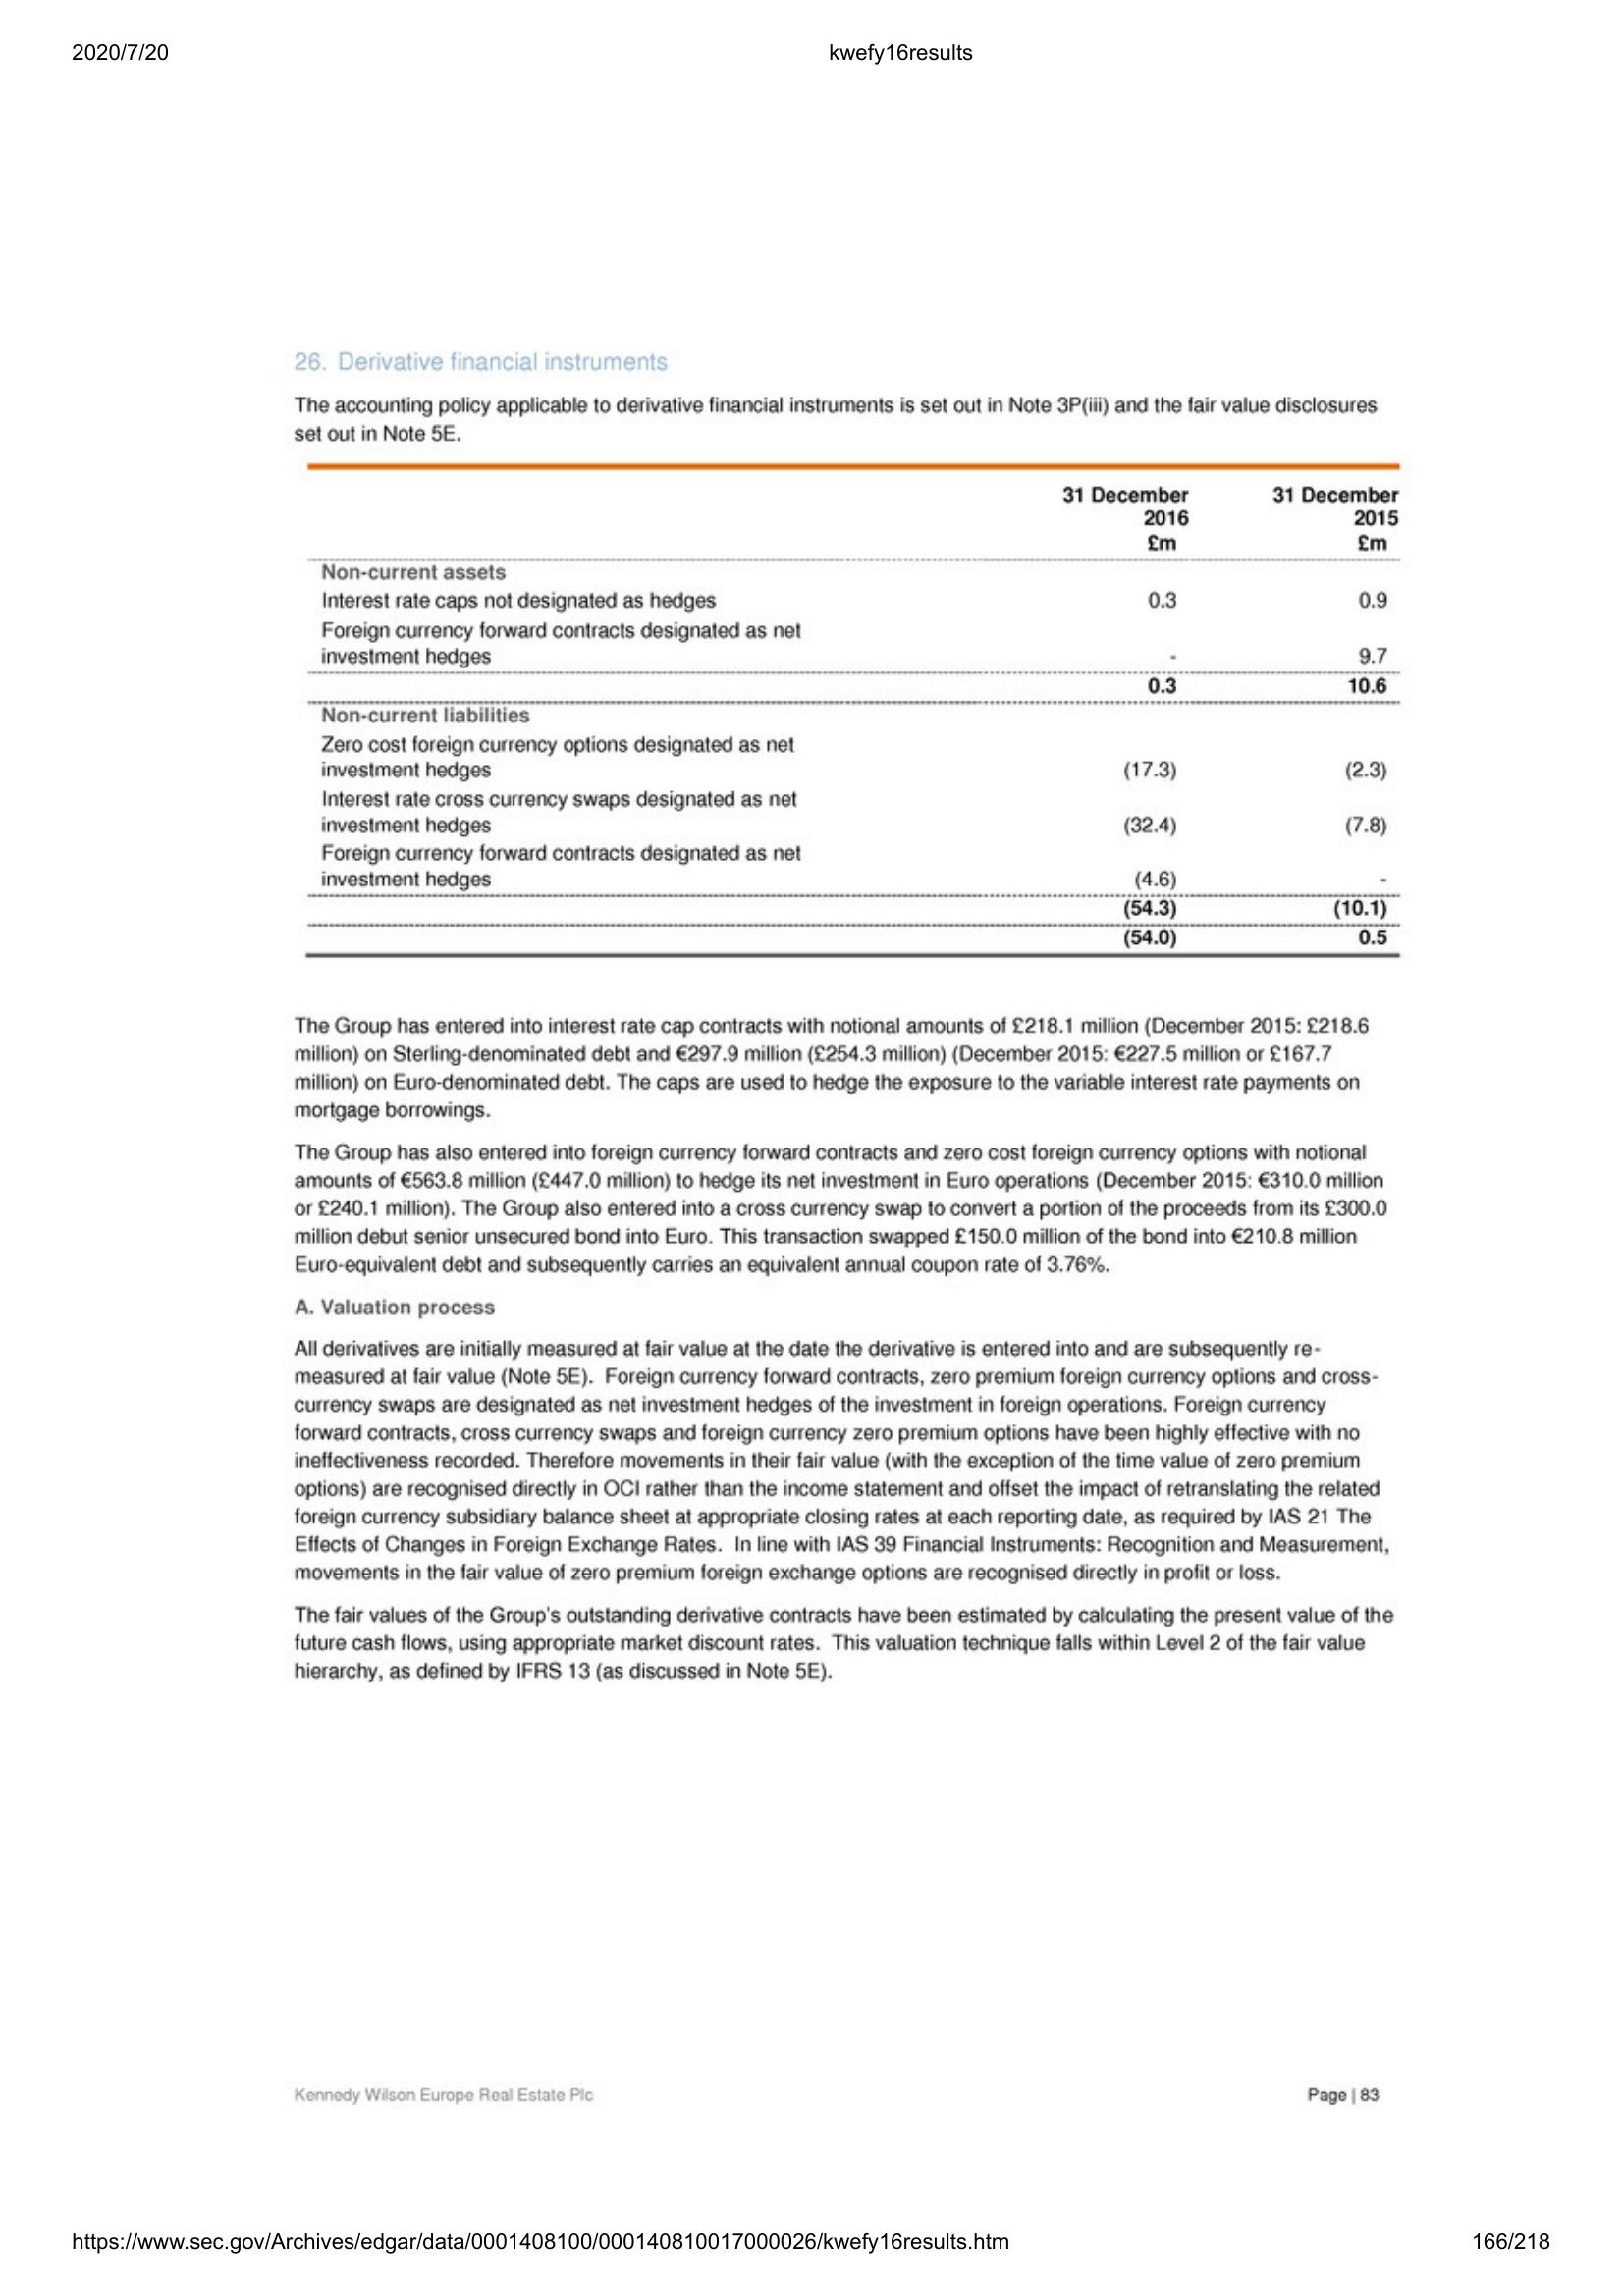table: (302, 456, 1403, 964)
